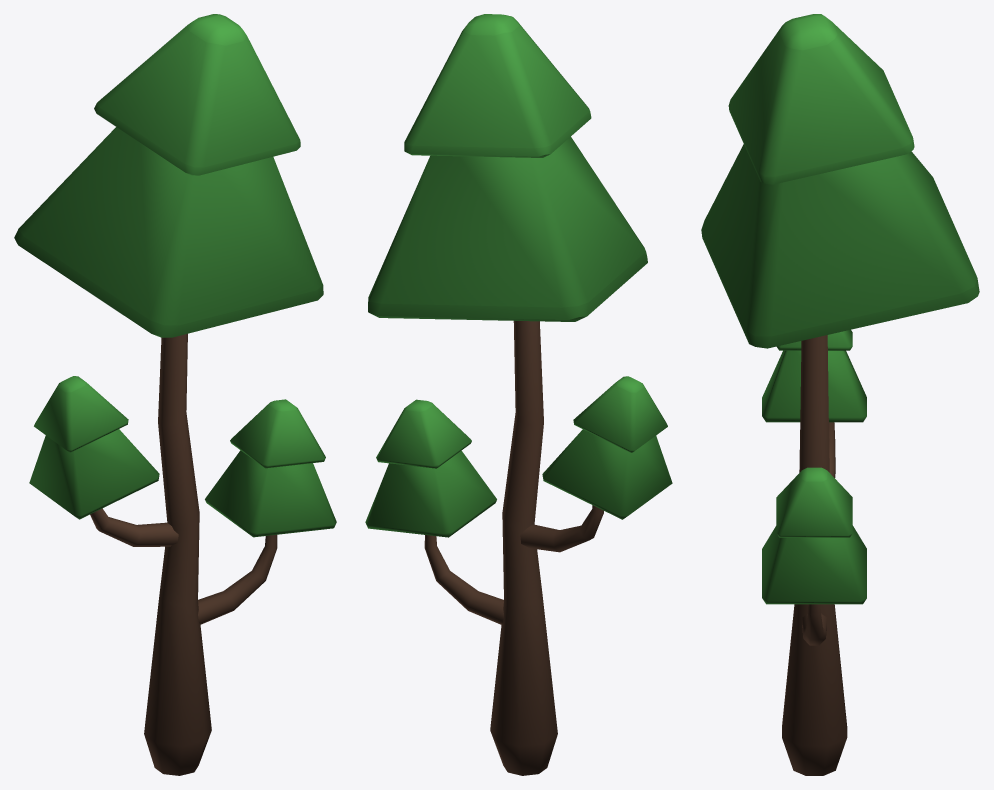
File: tree_pine_2.glb
3 views of the same model, side by side, from view 1: azimuth 30°, elevation 25°; view 2: azimuth 150°, elevation 25°; view 3: azimuth 270°, elevation 25° (orthographic). The views are drawn at different scales.
Parts seen in each view (by area): view 1: tree_pine_2; view 2: tree_pine_2; view 3: tree_pine_2.
Part boxes in pixels (<box>): tree_pine_2: <box>14,14,336,775</box>; tree_pine_2: <box>365,14,672,775</box>; tree_pine_2: <box>701,14,979,775</box>.
Size of the model in its own units: 4.08 by 11 by 3.6.
